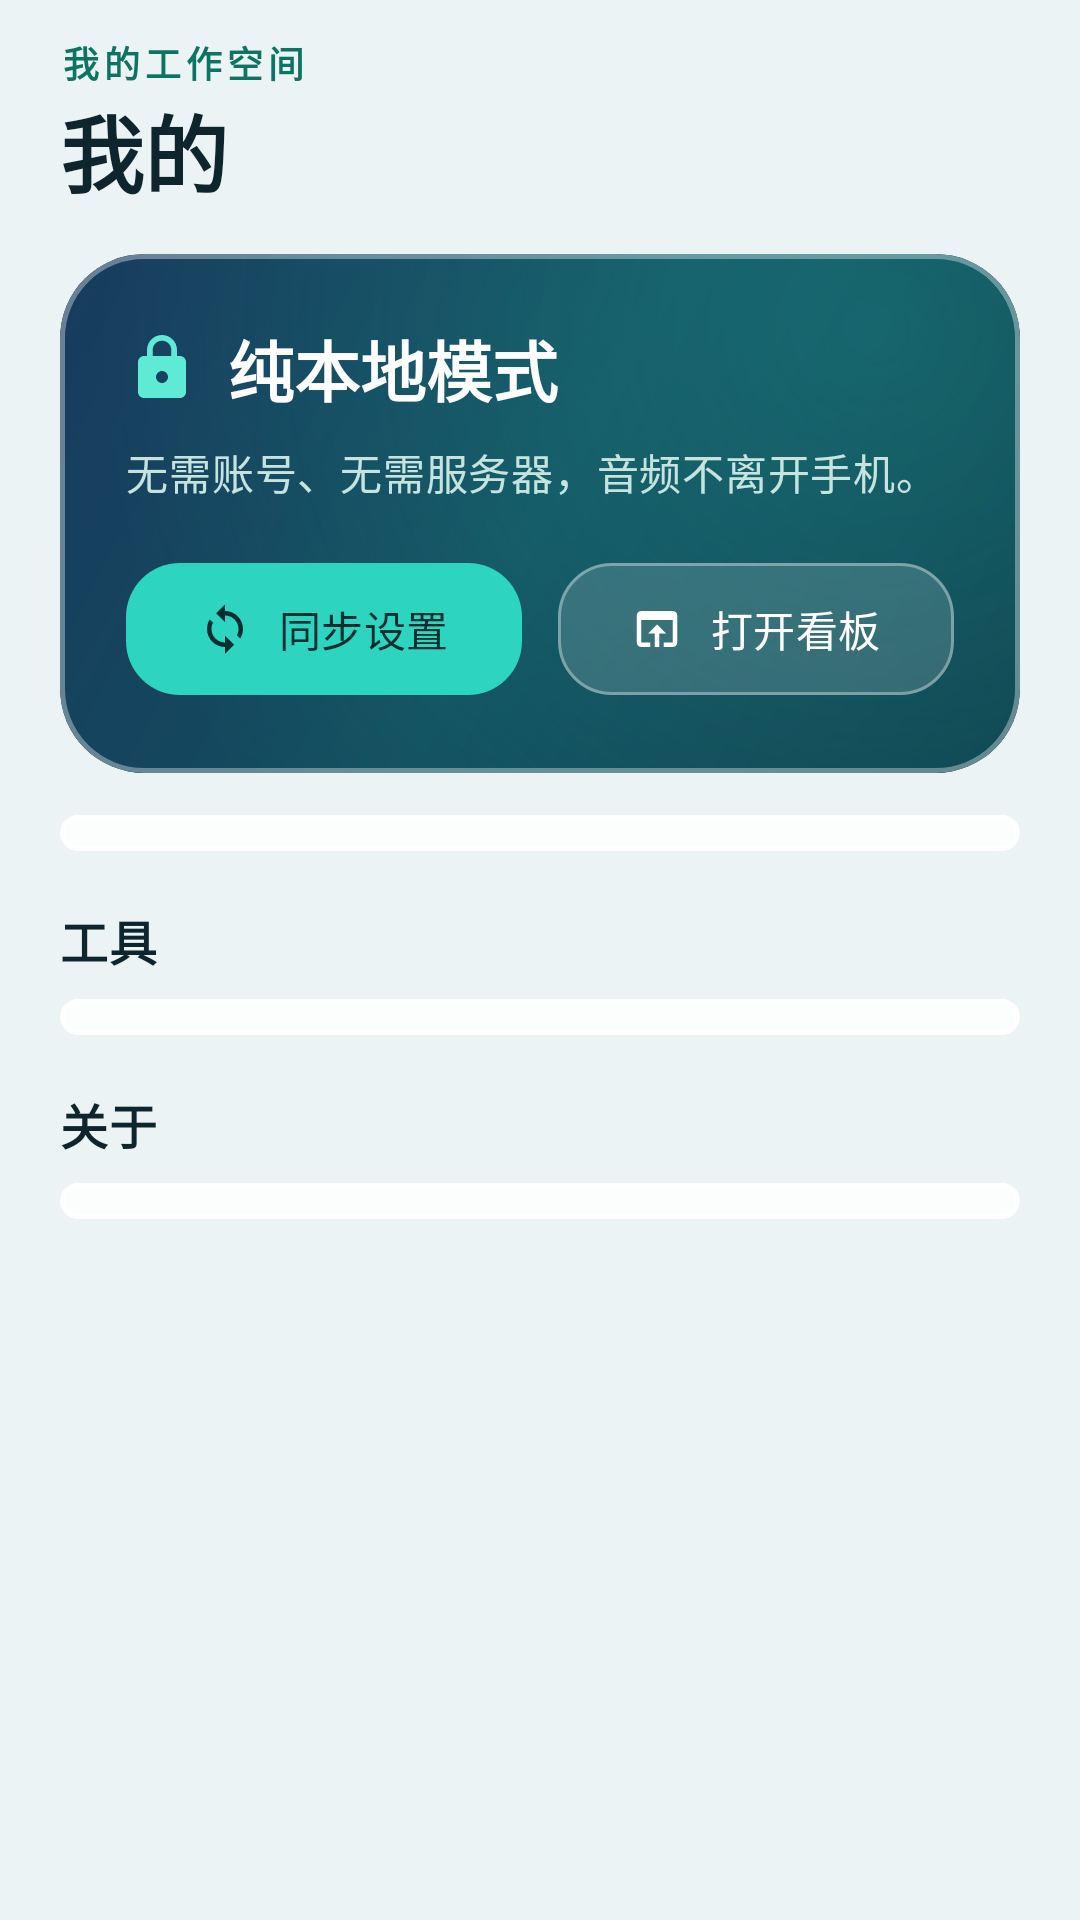

Icons on this 1080x1920 Android screen, each with its box as bbox=(x1, y1, x2, y2):
lock: bbox=(138, 335, 186, 398)
